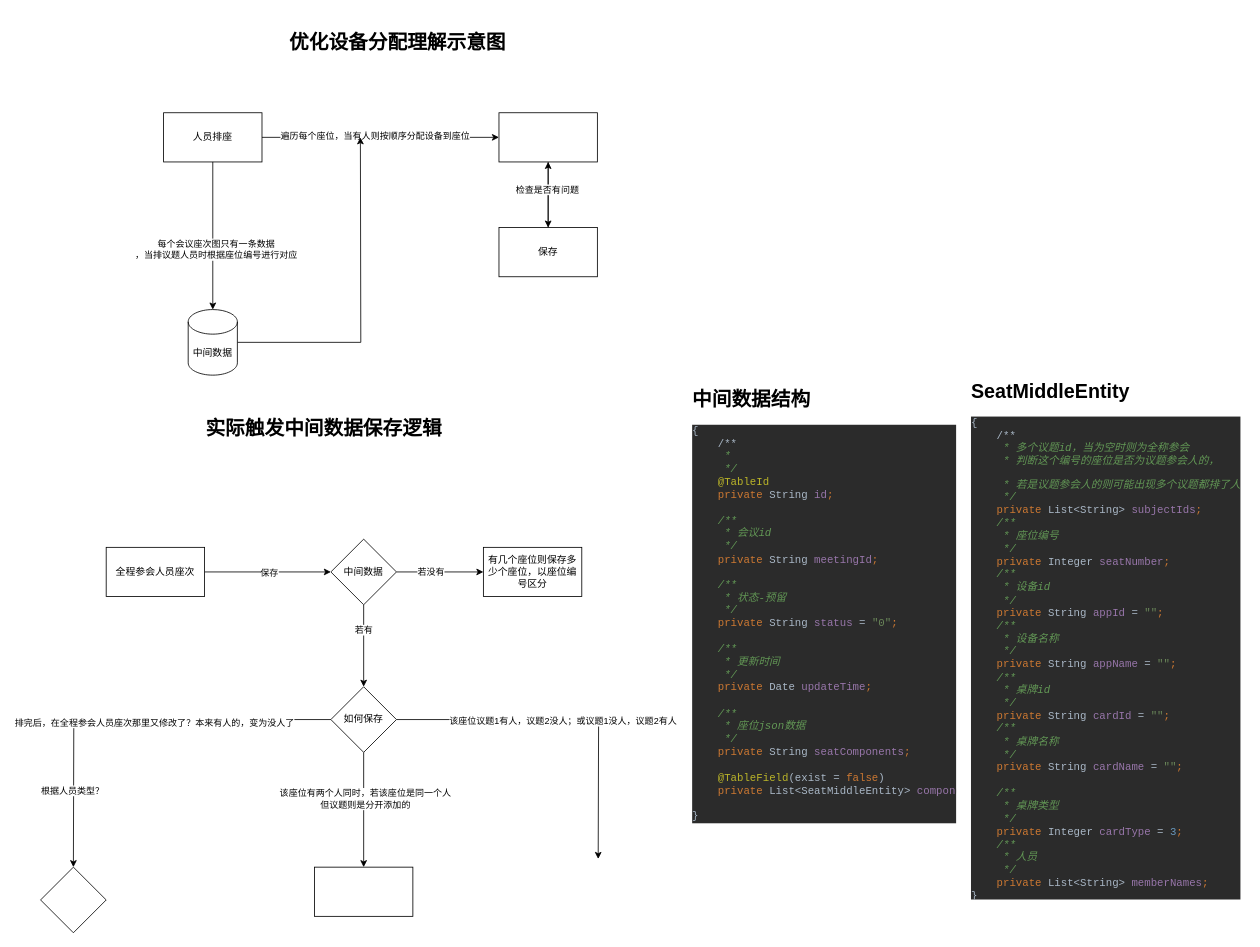
Some shapes in this 1260 by 947 pixel diagram are drawn without their labels. The centre of each missing label's shape, as x and y in pixels:
按座位编号保存议题id、人员姓名: pixel 363 891
根据原有数据中人员类型是否为全程: pixel 73 899
设备分配: pixel 547 137
